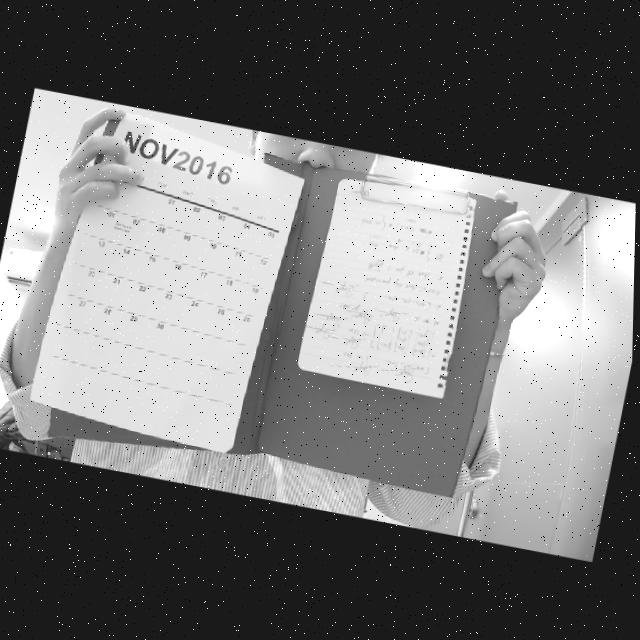document: (29, 110, 305, 456), (298, 177, 476, 397)
